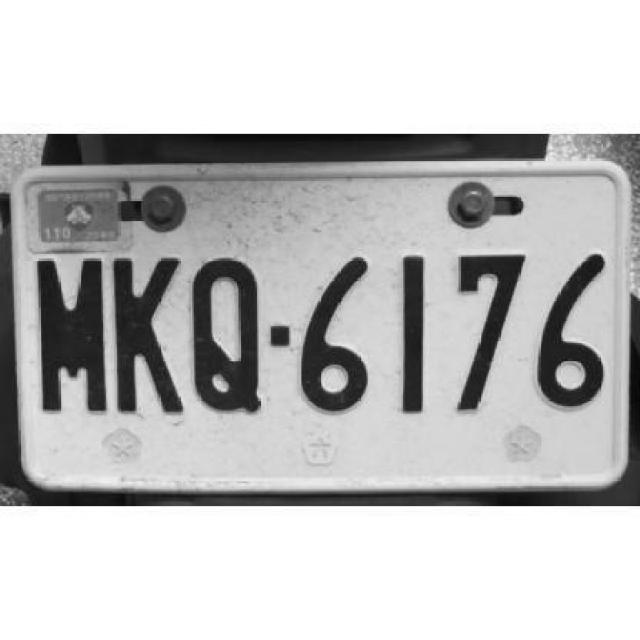-: (268, 317, 294, 351)
1: (396, 246, 430, 419)
6: (295, 246, 374, 420), (532, 243, 606, 415)
7: (450, 246, 528, 417)
K: (105, 249, 182, 422)
M: (34, 254, 108, 418)
Q: (186, 252, 265, 430)
